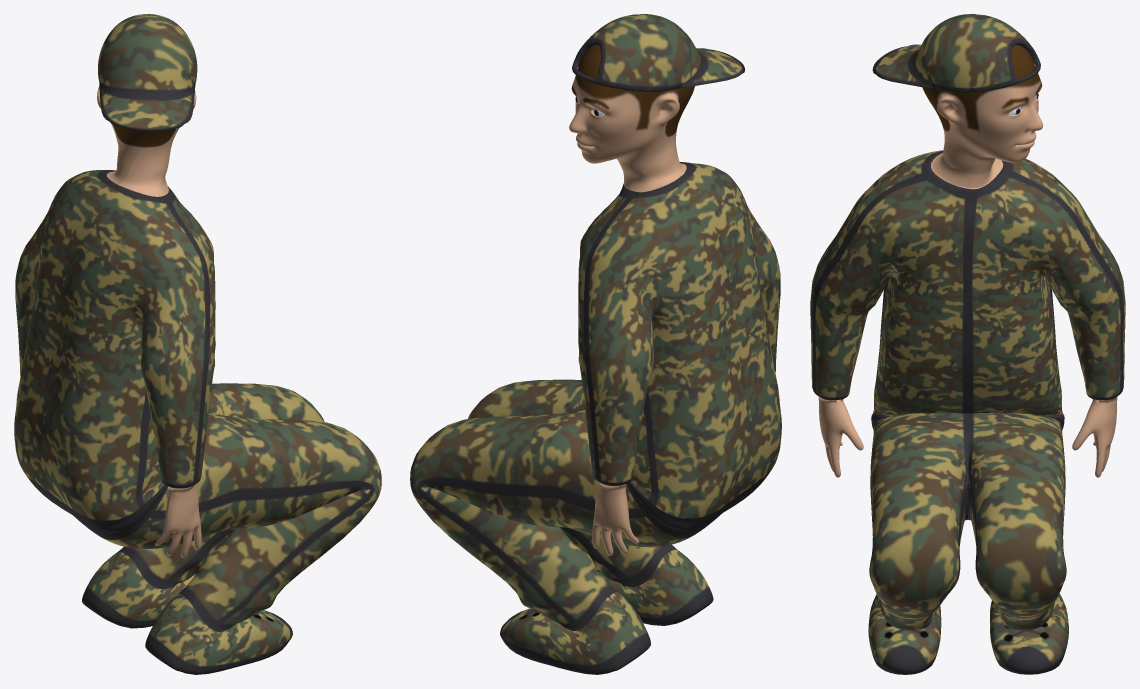
Rendered from SkinCamuflaje_PoseAgacharse.fbx.
3 views of the same model, side by side, from view 1: azimuth 30°, elevation 25°; view 2: azimuth 150°, elevation 25°; view 3: azimuth 270°, elevation 25° (orthographic). The views are drawn at different scales.
Parts seen in each view (by area): view 1: Cuerpo completo smooth.003; view 2: Cuerpo completo smooth.003; view 3: Cuerpo completo smooth.003.
Part boxes in pixels (bbox=[...]): Cuerpo completo smooth.003: bbox=[14, 14, 381, 674]; Cuerpo completo smooth.003: bbox=[410, 14, 781, 674]; Cuerpo completo smooth.003: bbox=[810, 14, 1125, 674].
Bounding box in the file's own units: 58.13 × 114 × 53.42.
Materials: 1 (1 with a texture image).
